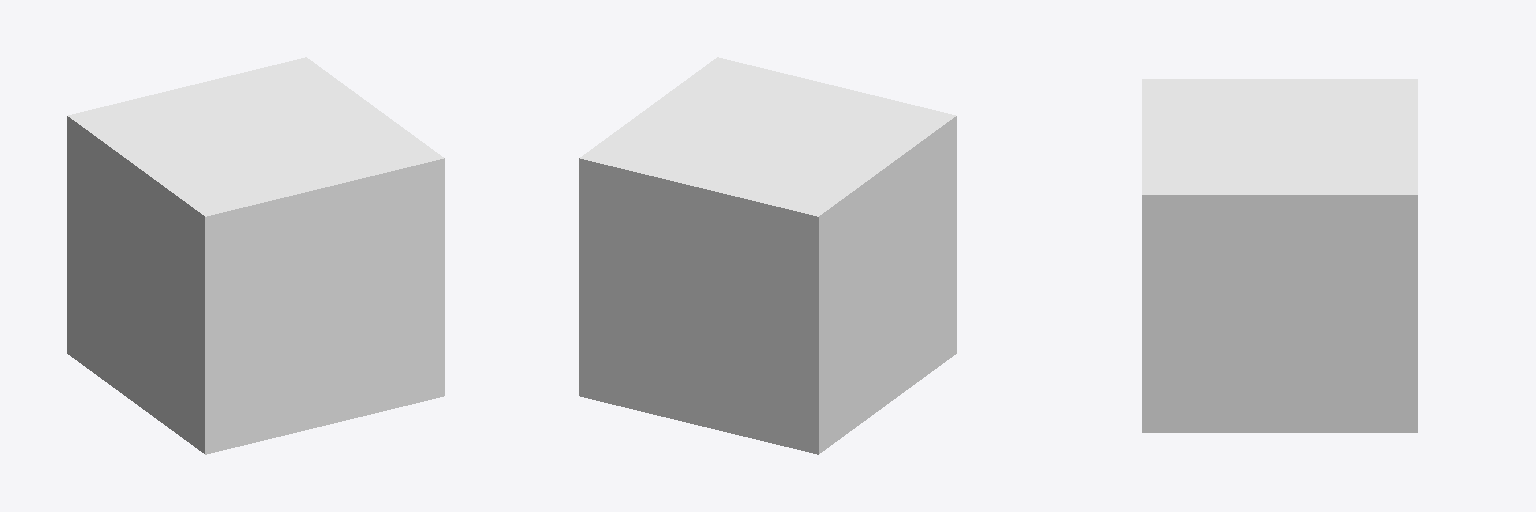
Rendered from 4Water.obj.
3 renders of one model, left to right at view 1: azimuth 30°, elevation 25°; view 2: azimuth 150°, elevation 25°; view 3: azimuth 270°, elevation 25°, orthographic.
Visible parts, largest first — view 1: object 1; view 2: object 1; view 3: object 1.
Part boxes in pixels (x1,y1,x2,y2): object 1: (67, 57, 444, 454); object 1: (579, 57, 956, 454); object 1: (1142, 79, 1417, 432).
Bounding box in the file's own units: 4 × 3.8 × 4.